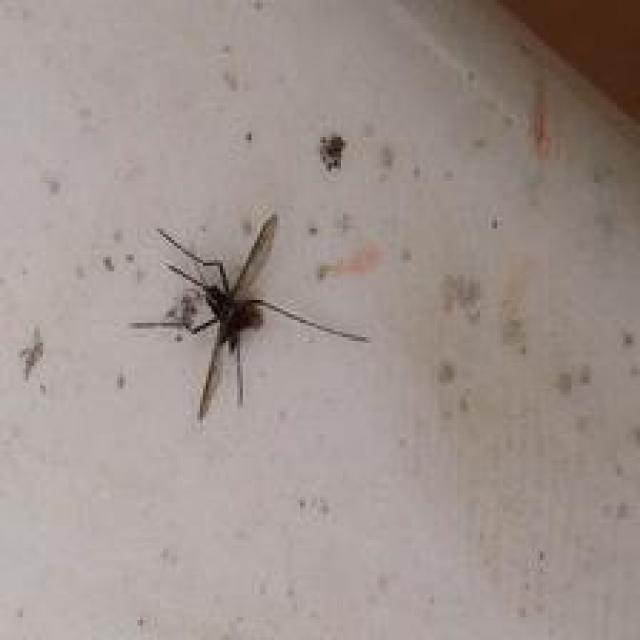Aedes albopictus: (130, 211, 370, 423)
